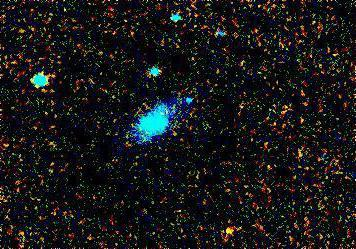star: (213, 217, 243, 247)
